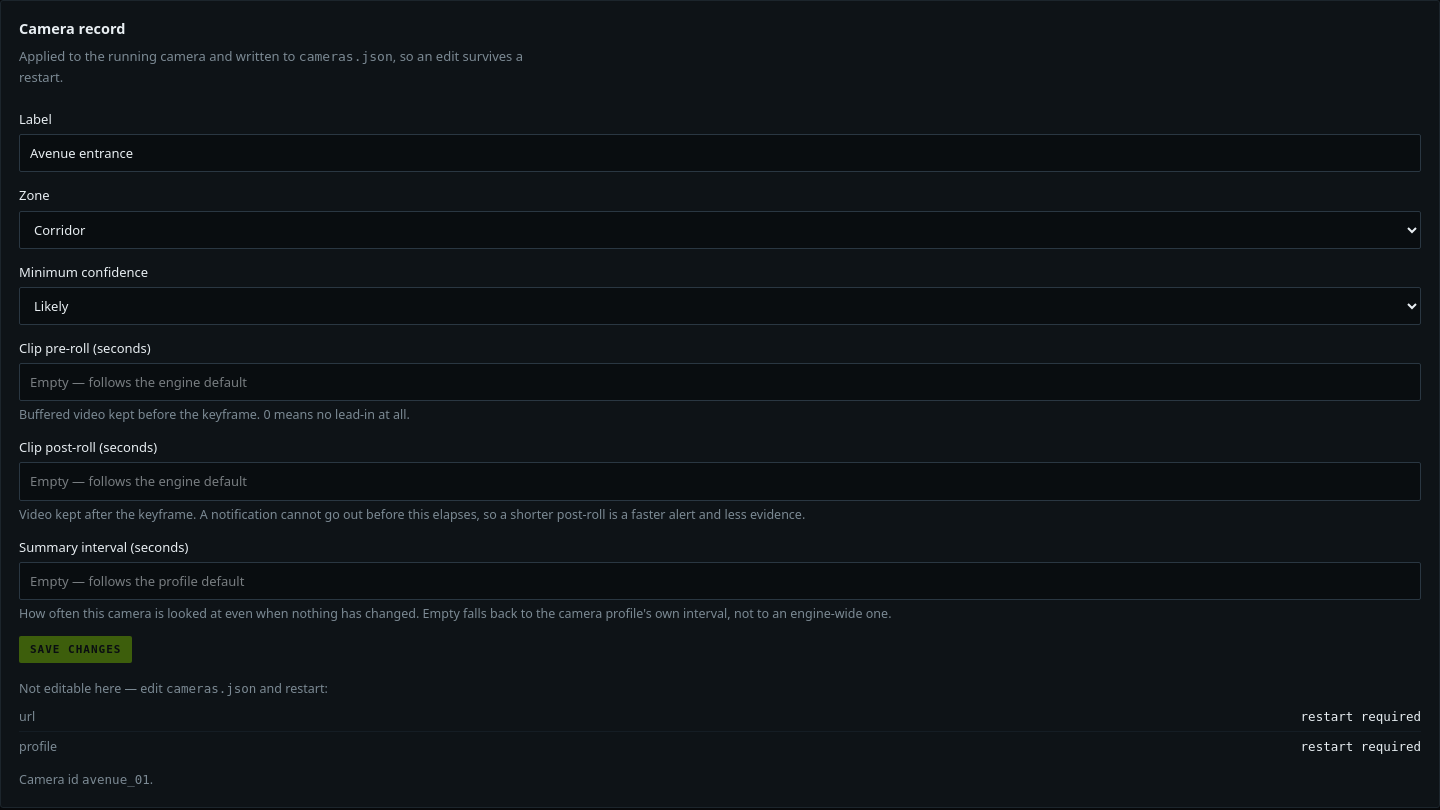
Scenario: CameraRecordPanel, failures › keeps the operator's text after a failure
This screenshot has width=1440, height=810.
Replace the text in the field labelled "Label" with "East door" at (720, 153), box [19,134,1421,172]
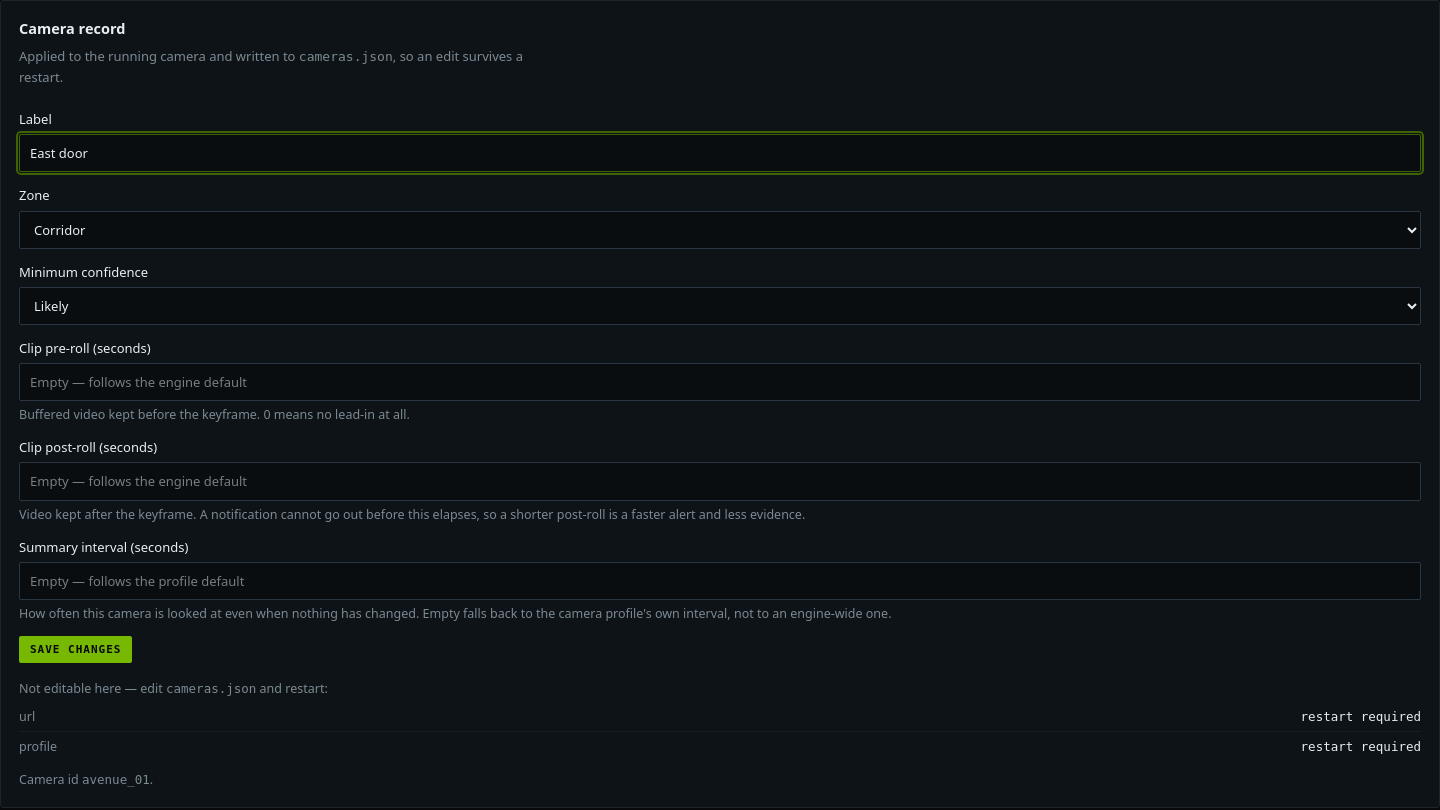
Click the button "Save changes" at (76, 649), box [19,636,132,663]
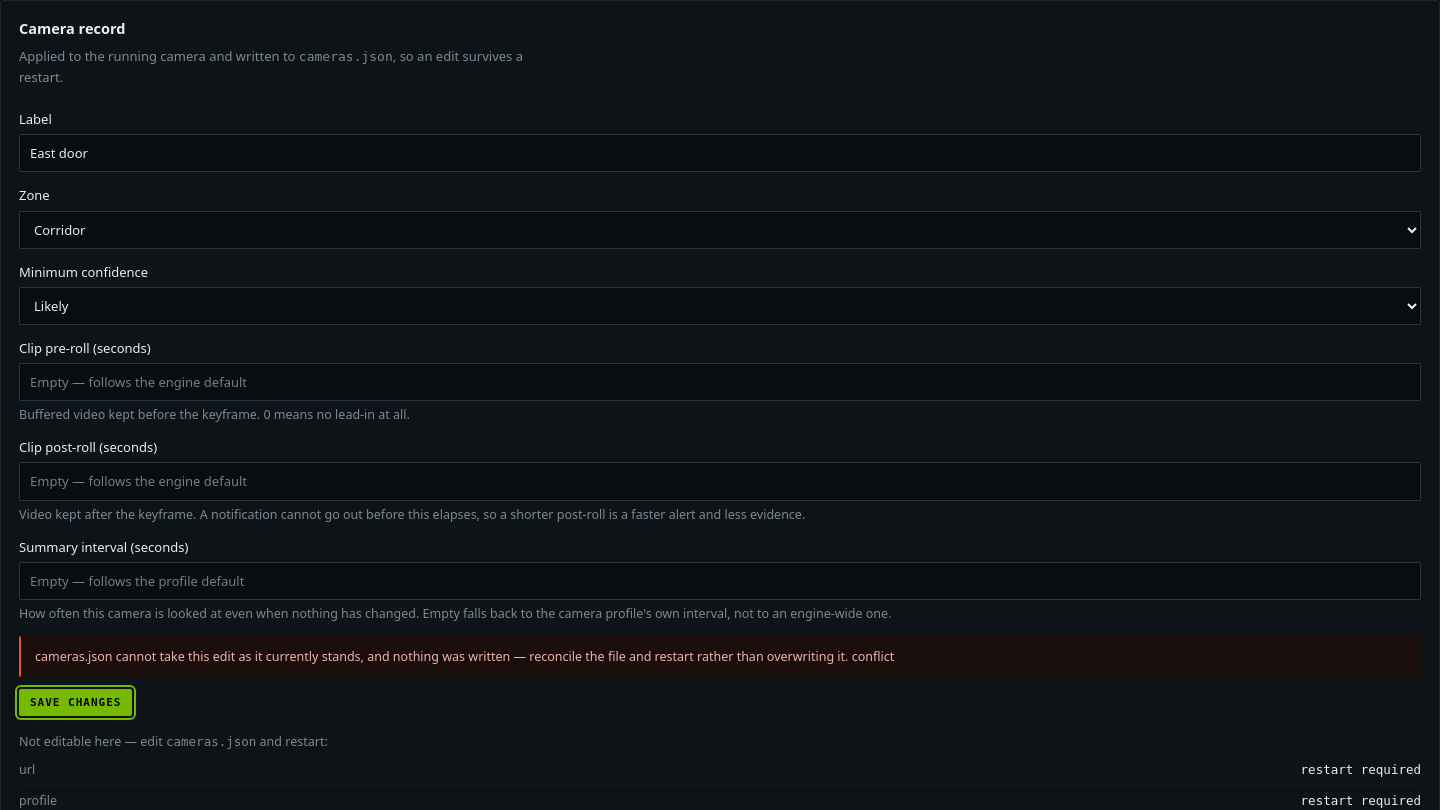
Now the message with test id "camera-record-error" is shown, box [19,636,1421,677]
